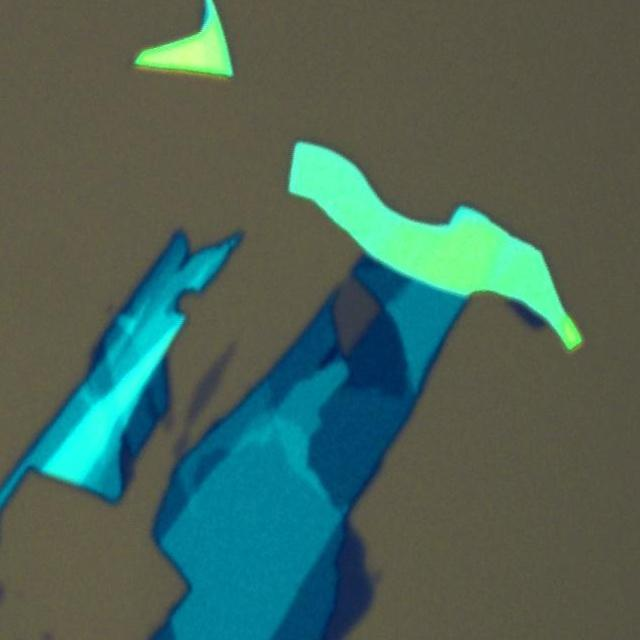monolayer-eWW4: (180, 336, 238, 428), (334, 278, 382, 358)
